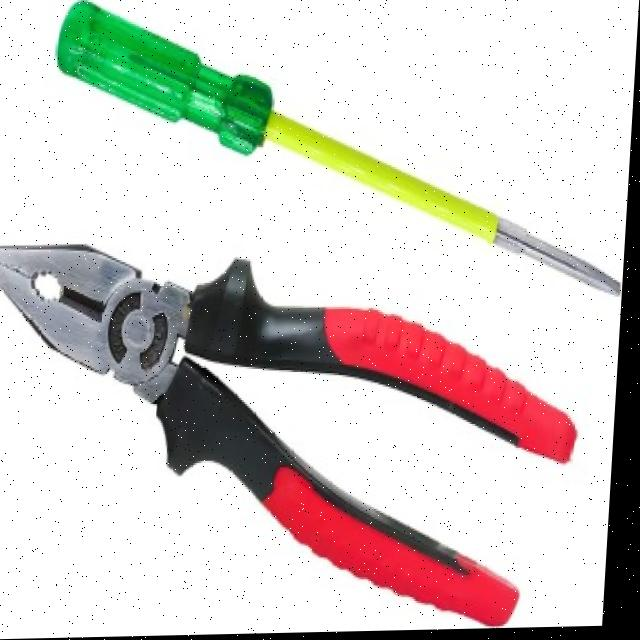Screwdriver: (57, 2, 623, 298)
